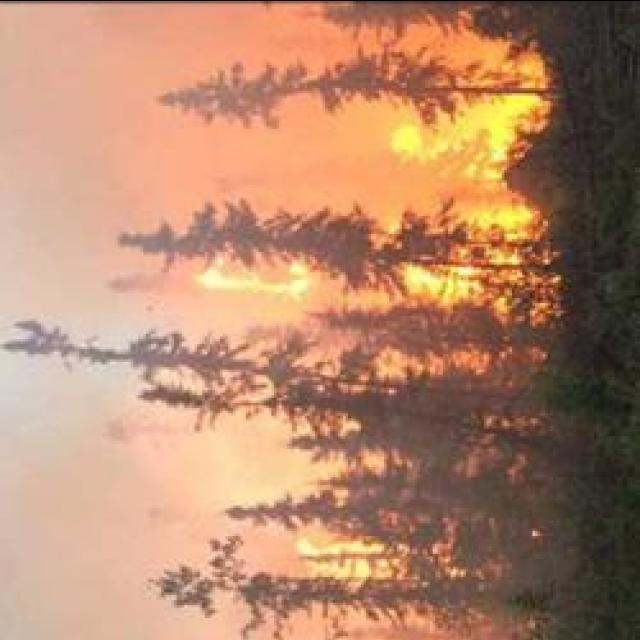fire: (386, 20, 552, 168)
